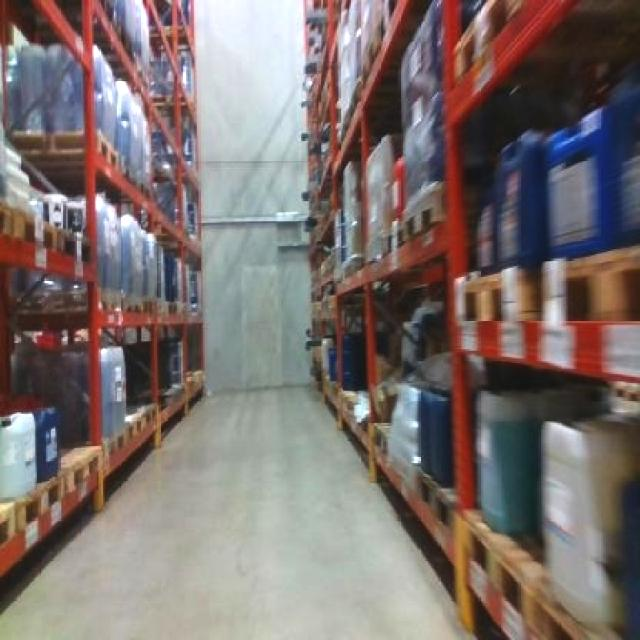pallets: (303, 0, 637, 637)
